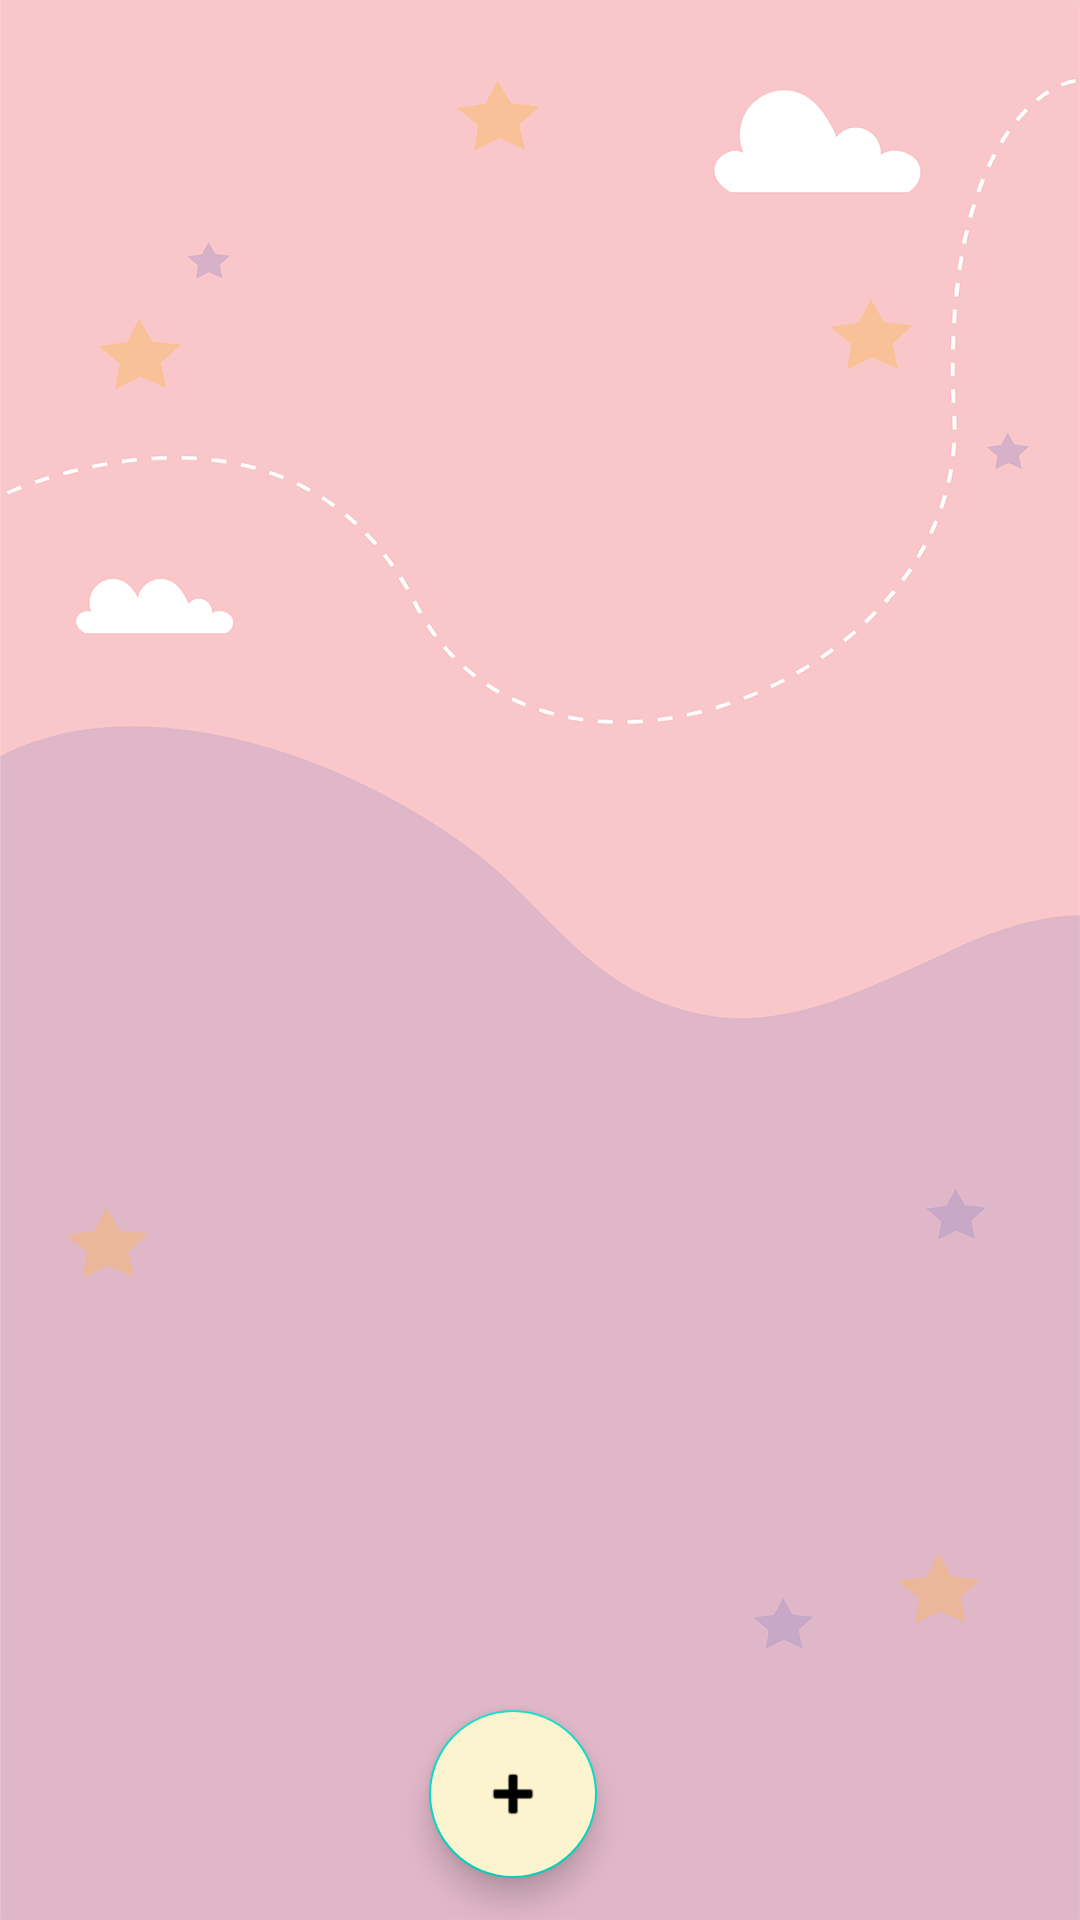

Point at icon controls on the screen. Image size 1080w x 1920h, points as (x=x, y=y).
add: (x=513, y=1794)
